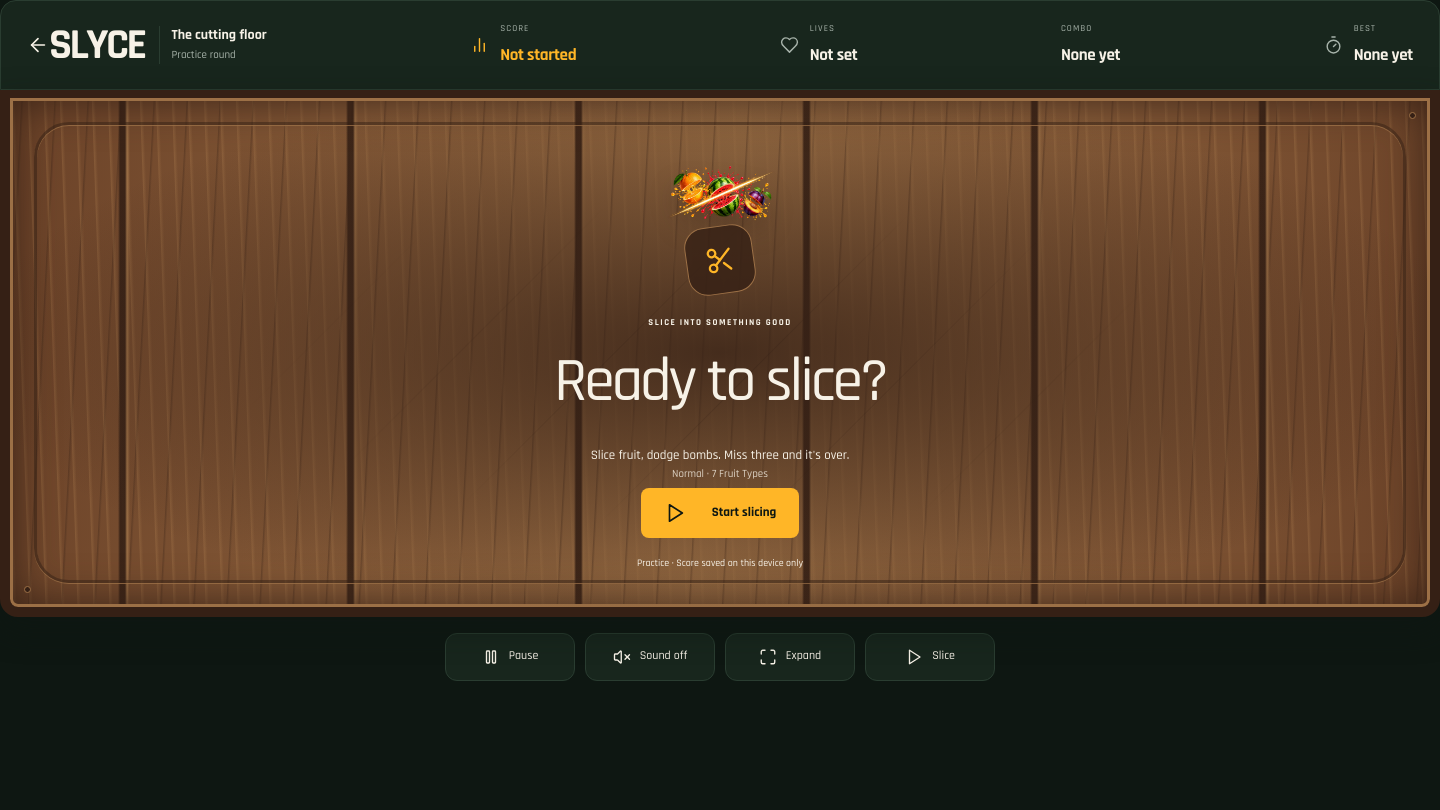
Scenario: handles fullscreen refusal without breaking the session
Click the button with aria-label "Full screen". click: (790, 656)
box: [725,632,855,680]
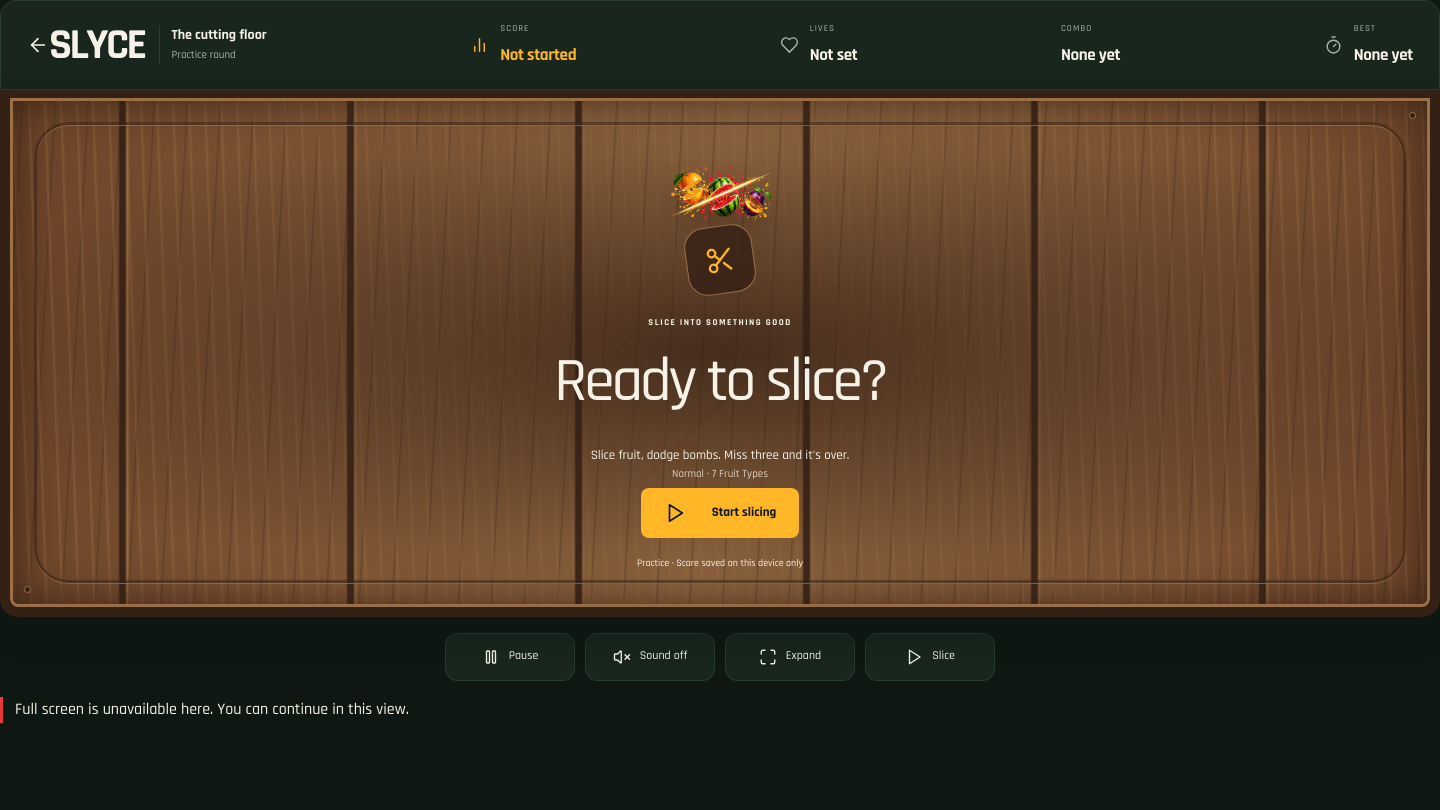
Expected: the text "Full screen is unavailable here. You can continue in this view." is shown, [0,696,1439,723]
